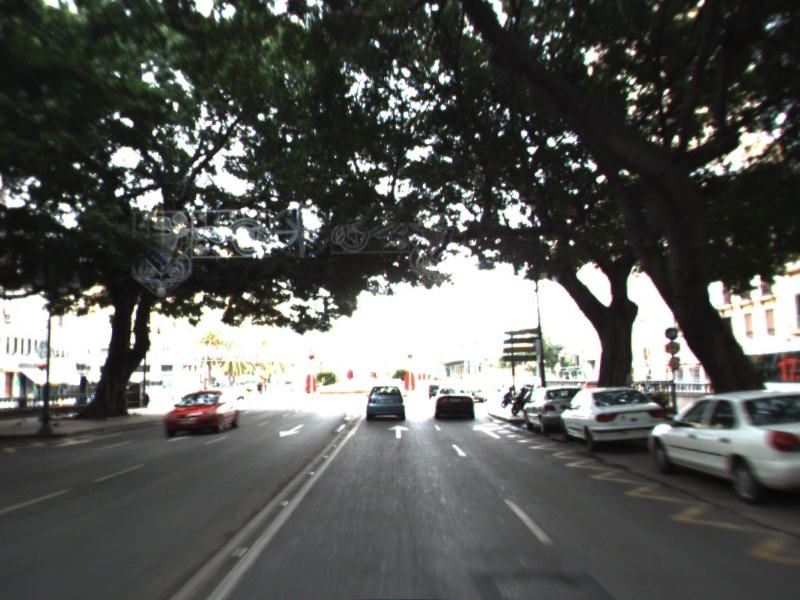STRAIGHT: (471, 423, 502, 440), (386, 423, 411, 440)
